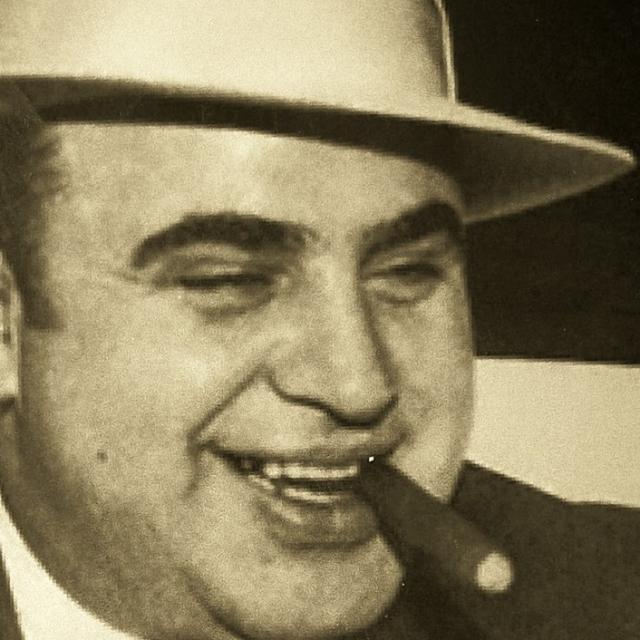Normal: (22, 125, 479, 638)
